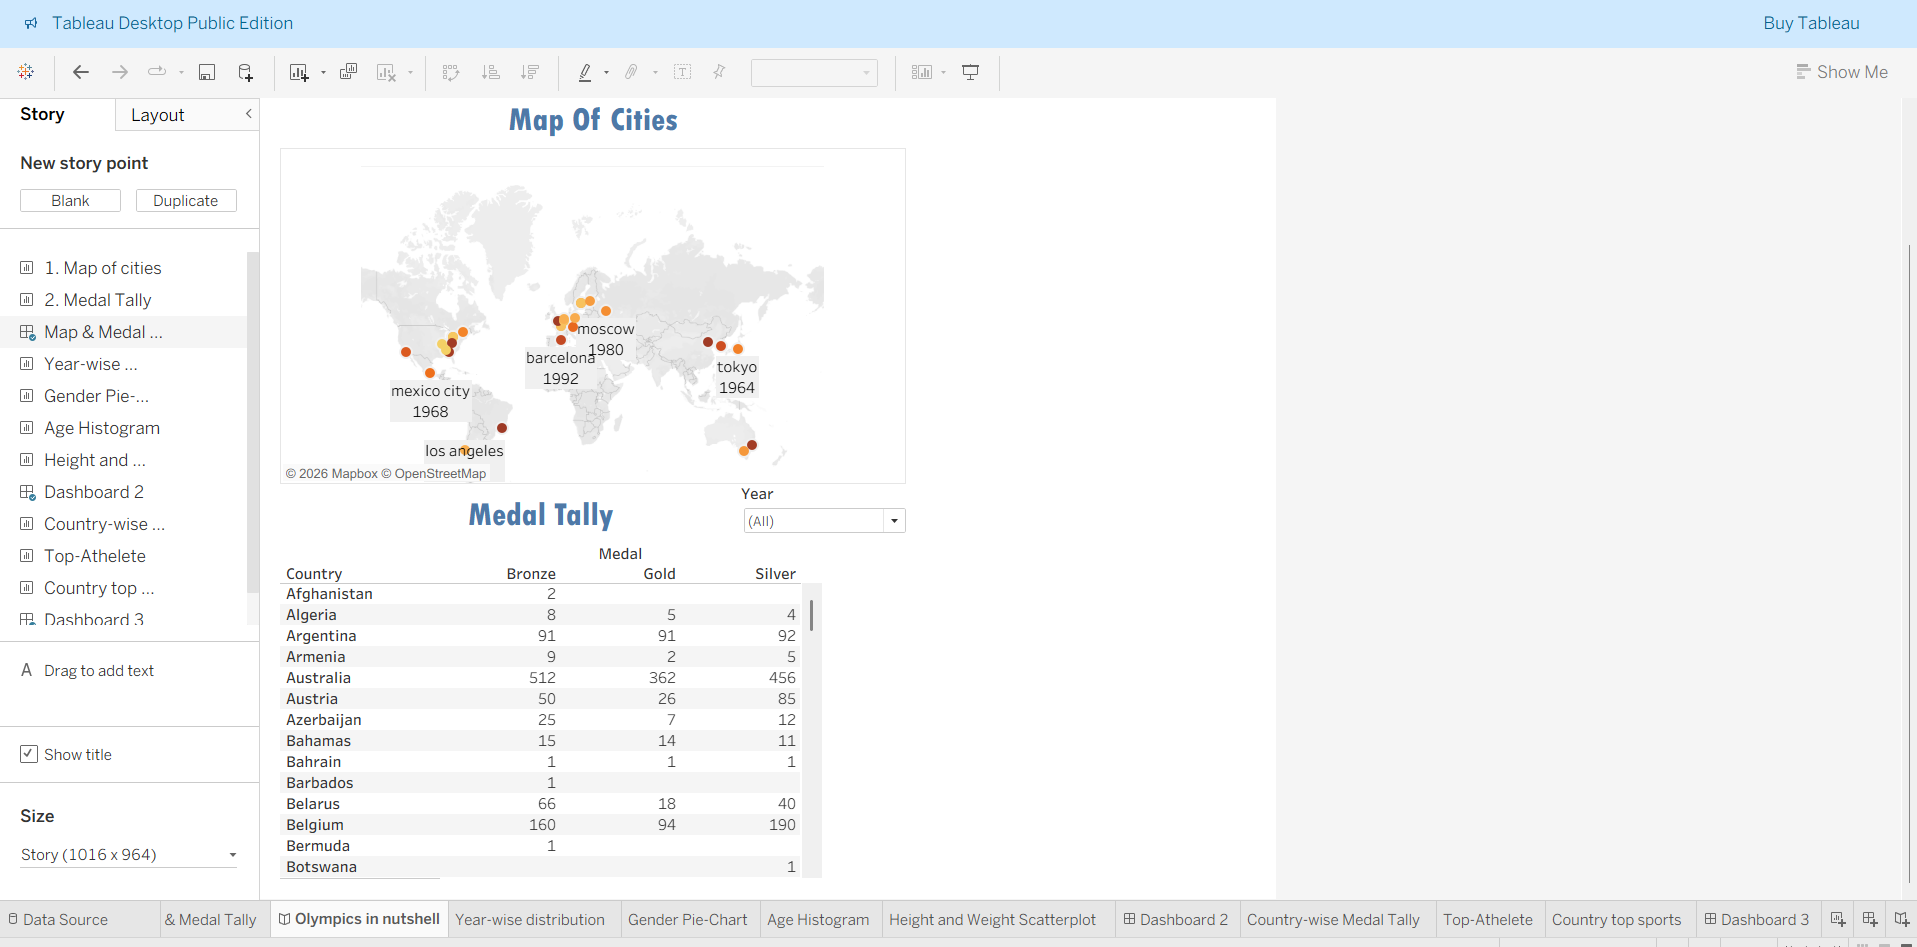

This screenshot's page, from the dashboard's own definition file:
{"tool":"tableau","page":{"name":"Map & Medal Tally","canvas":[650,860],"ordinal":2},"visuals":[{"type":"worksheet","title":"1. Map of cities","mark":"Automatic","rows":["latitude"],"cols":["longitude"],"box":[8,8.6,634,421.4]},{"type":"filter","title":"2. Medal Tally","param":"[federated.1bwtbgg1hqutyx1fjpakg1pwwpmm].[none:Year:ok]","box":[473,424.6,168,65.4]},{"type":"worksheet","title":"2. Medal Tally","mark":"Automatic","rows":["country"],"cols":["Medal"],"box":[8,430,634,421.4]}]}

Visuals, with their boxes on the page's 650x860 design canvas (x1, y1, x2, y2). These are canvas units, not pixel positions in the 1917x947 screenshot, which may show the page scaled, cropped or inside an application window:
"1. Map of cities" worksheet: <bbox>8, 9, 642, 430</bbox>
"2. Medal Tally" filter: <bbox>473, 425, 641, 490</bbox>
"2. Medal Tally" worksheet: <bbox>8, 430, 642, 851</bbox>
